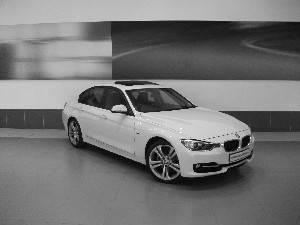car: (62, 81, 257, 185)
